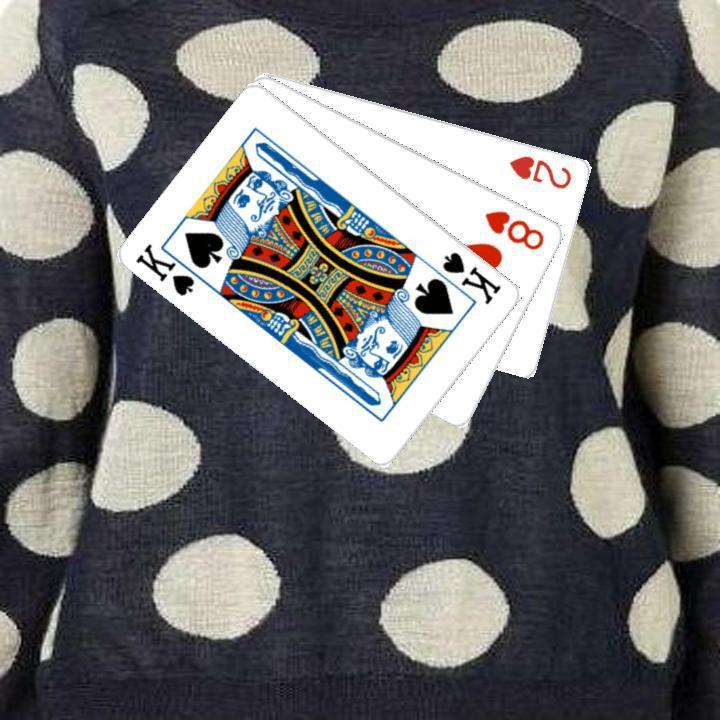2: (505, 150, 574, 191)
8: (481, 206, 547, 252)
K: (132, 239, 210, 298), (438, 247, 504, 306)
